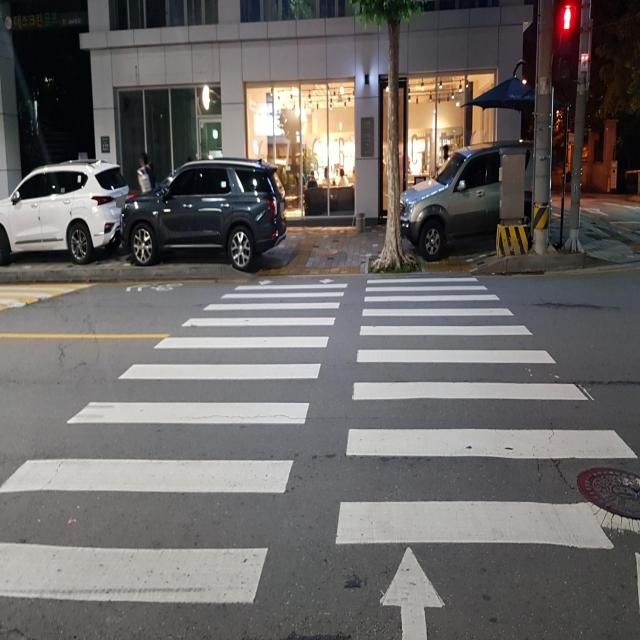빨간불: (558, 7, 579, 65)
횡단보도: (0, 272, 640, 637)
